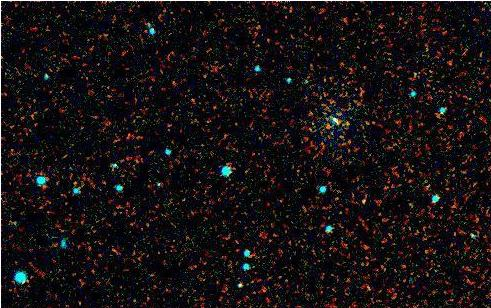star: (413, 167, 443, 197)
